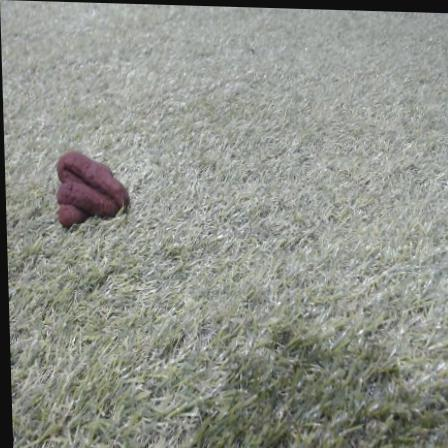dog-poop: (45, 145, 129, 229)
